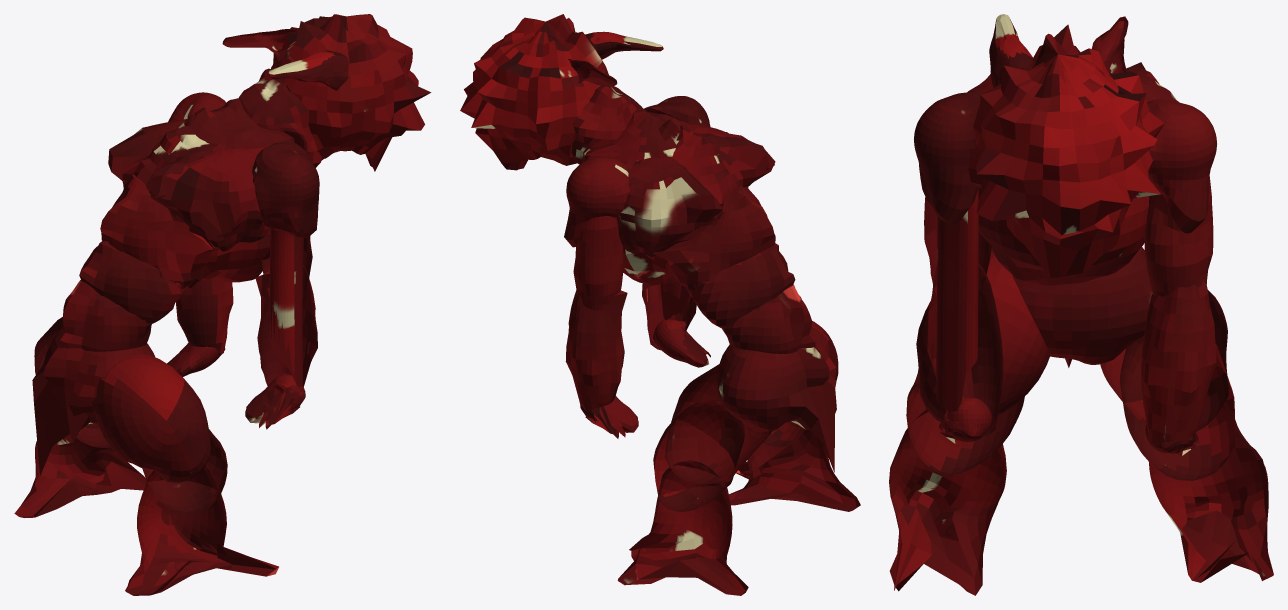
The model's file is Daemon_demo.fbx.
3 renders of one model, left to right at view 1: azimuth 30°, elevation 25°; view 2: azimuth 150°, elevation 25°; view 3: azimuth 270°, elevation 25°, orthographic. The views are drawn at different scales.
Visible parts, largest first — view 1: Sphere.011; view 2: Sphere.011; view 3: Sphere.011.
Part boxes in pixels (box(x1,y1,x2,y2)): Sphere.011: box(14, 14, 431, 595); Sphere.011: box(460, 14, 860, 595); Sphere.011: box(889, 14, 1273, 595).
Bounding box in the file's own units: 422 × 528 × 286.
